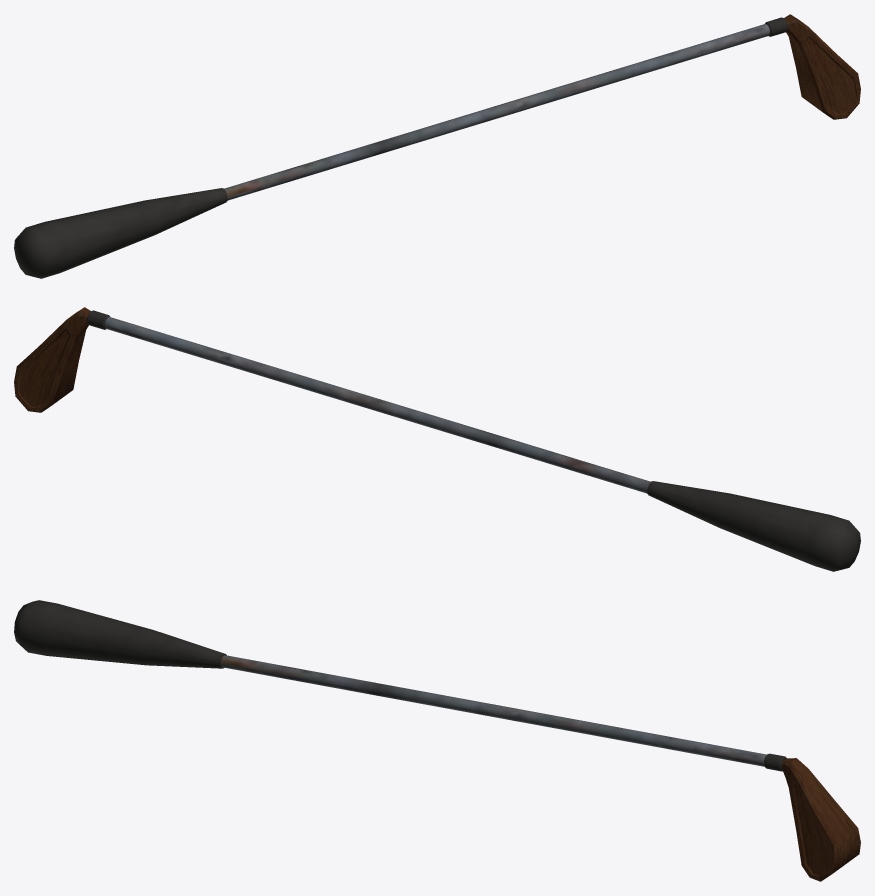
File: golf_club.glb
3 views of the same model, one above another, from view 1: azimuth 30°, elevation 25°; view 2: azimuth 150°, elevation 25°; view 3: azimuth 330°, elevation 25° (orthographic).
Visible parts, largest first — view 1: tool; view 2: tool; view 3: tool.
Boxes of the visible parts, x1,y1,x2,y2 form: tool: [14, 14, 860, 278]; tool: [14, 307, 860, 571]; tool: [14, 600, 860, 881].
Size of the model in its own units: 1.29 by 0.1536 by 0.0758.
1 material, 1 textured.
